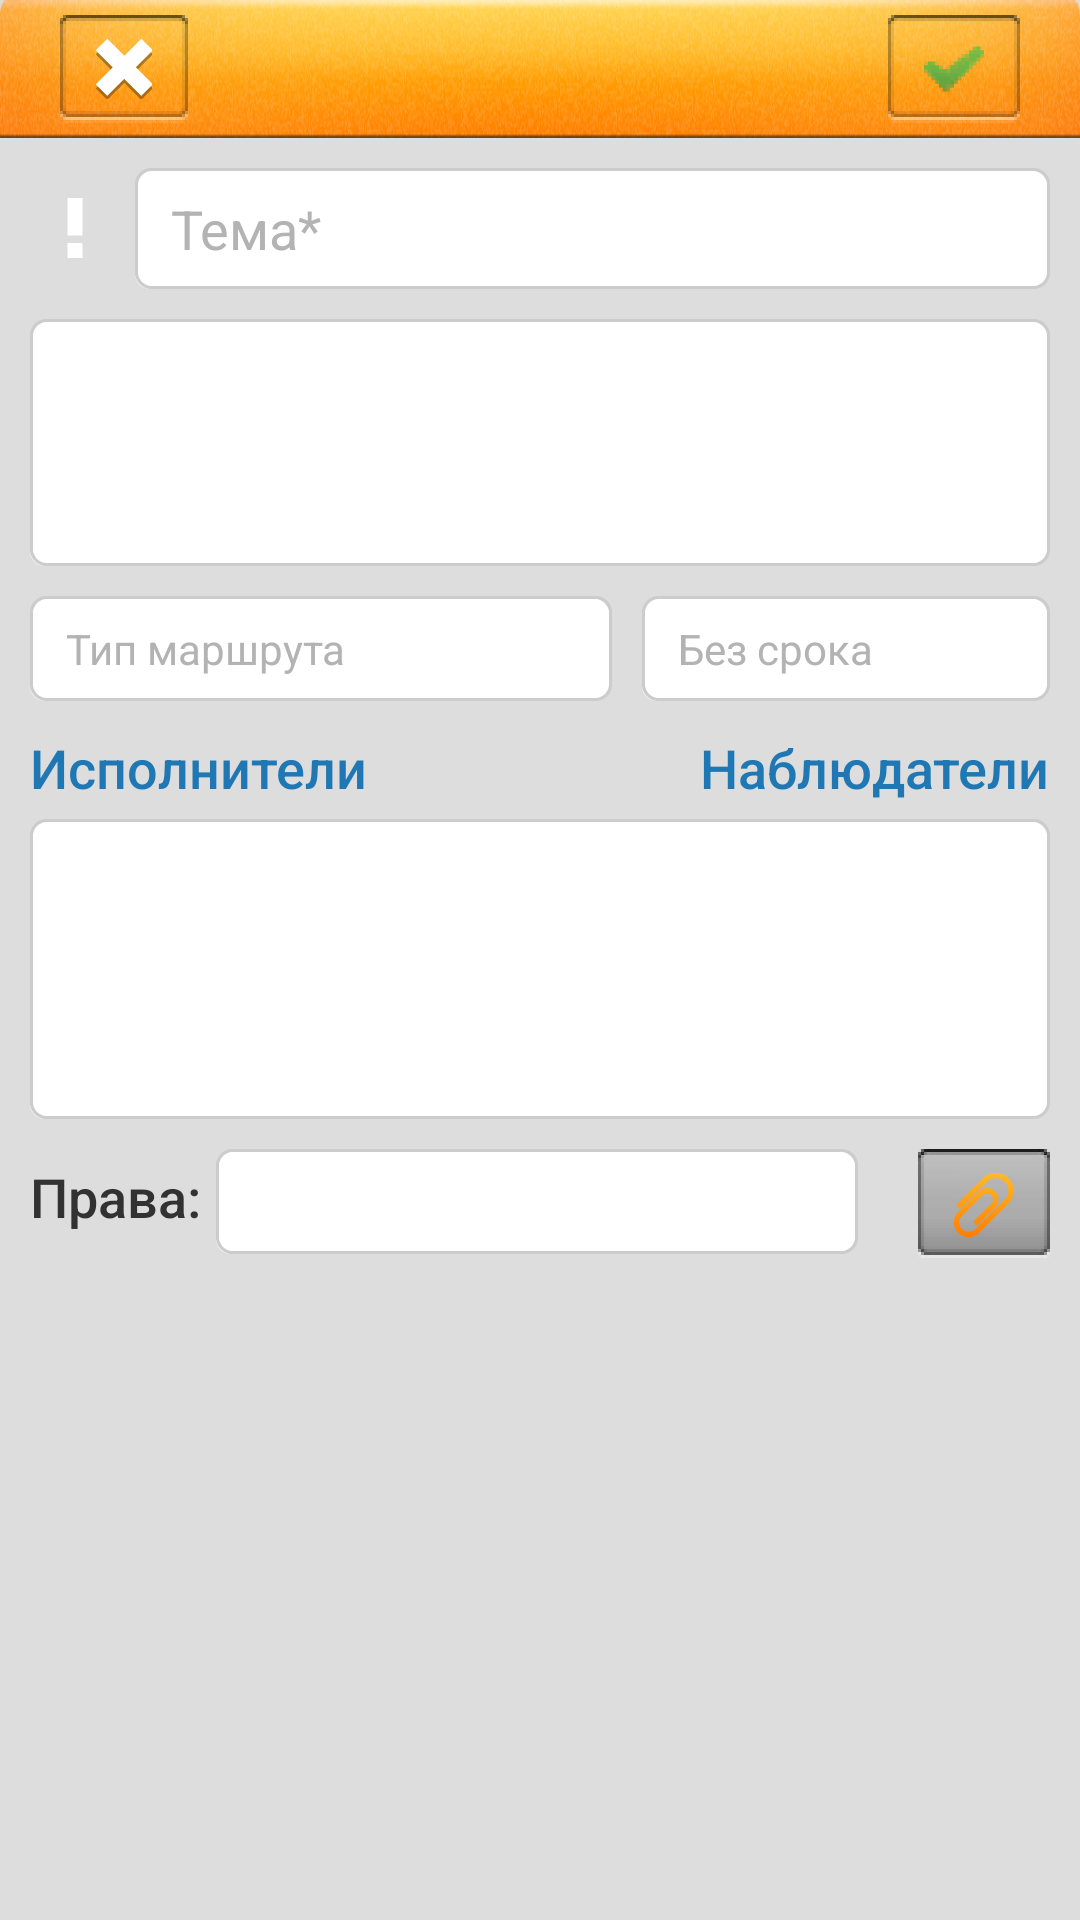

Icons on this 1080*1920 Android screen, each with the point to tap as point (x, y):
attachment: point (984, 1202)
cancel: point (124, 69)
